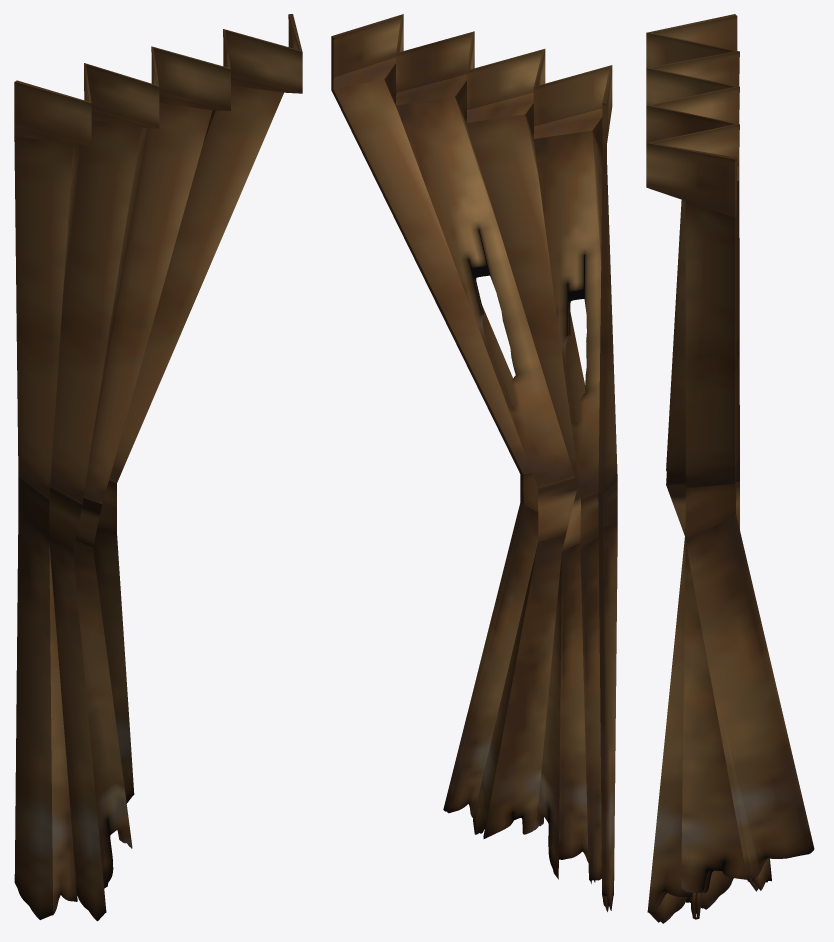
Rendered from Inside_Poly_Curtain_07.obj.
The picture shows the model from 3 angles, left to right: view 1: azimuth 30°, elevation 25°; view 2: azimuth 150°, elevation 25°; view 3: azimuth 270°, elevation 25°; orthographic projection. The views are drawn at different scales.
Parts seen in each view (by area): view 1: Plane.001; view 2: Plane.001; view 3: Plane.001.
Boxes of the visible parts, bbox=[...] form: Plane.001: bbox=[14, 14, 302, 921]; Plane.001: bbox=[331, 14, 617, 911]; Plane.001: bbox=[646, 14, 814, 923].
Size of the model in its own units: 0.7 by 2 by 0.3518.
Materials: 1 (1 with a texture image).
